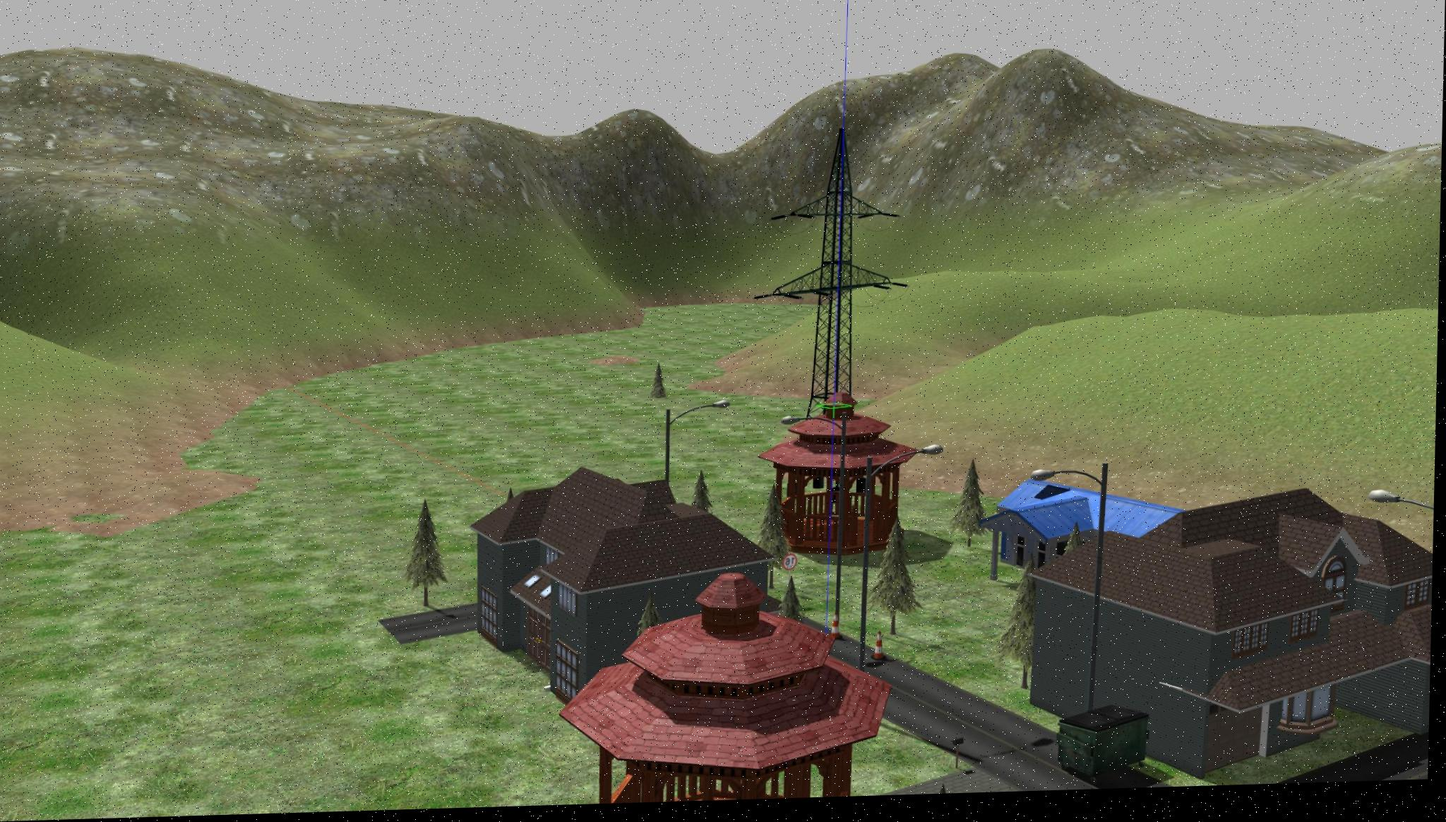tower: (773, 128, 895, 399)
